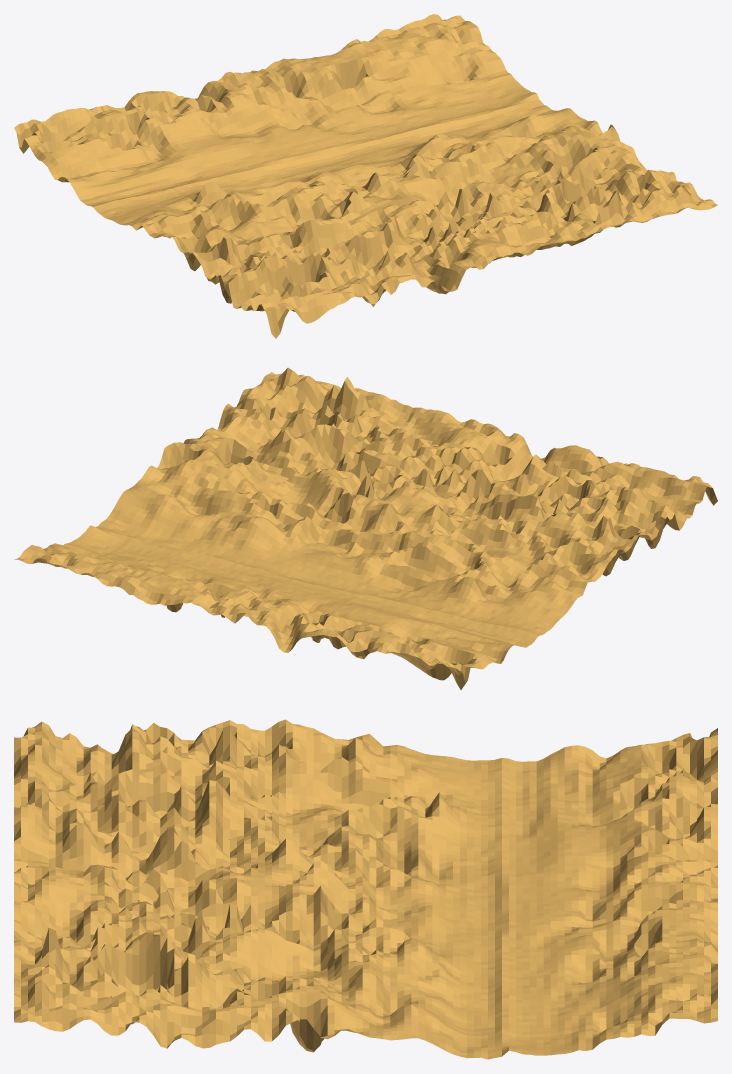
The picture shows the model from 3 angles, top to bottom: view 1: azimuth 30°, elevation 25°; view 2: azimuth 150°, elevation 25°; view 3: azimuth 270°, elevation 25°; orthographic projection. The views are drawn at different scales.
Visible parts, largest first — view 1: Plane; view 2: Plane; view 3: Plane.
Boxes of the visible parts, left/top/right/bottom form: Plane: left=14, top=14, right=717, bottom=338; Plane: left=14, top=367, right=717, bottom=689; Plane: left=14, top=719, right=717, bottom=1059.
Size of the model in its own units: 500 by 68.35 by 500.
